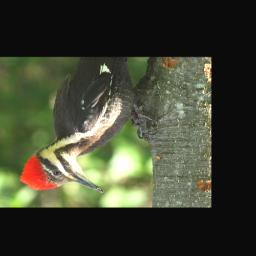Woodpecker: (21, 58, 156, 193)
